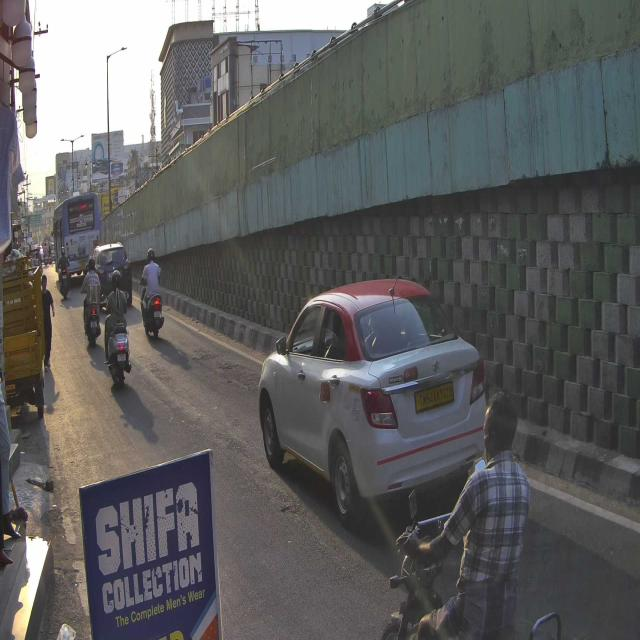single_rider: (385, 392, 562, 640), (100, 269, 132, 387)
